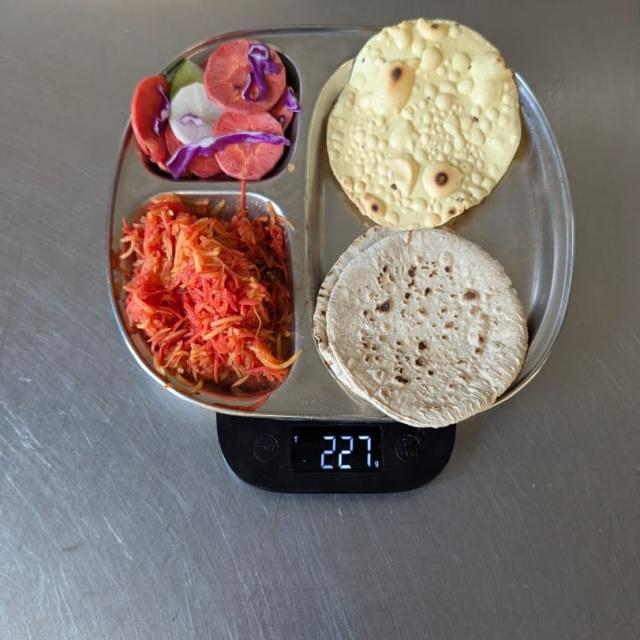Chapati: (317, 235, 526, 427)
Papad: (326, 18, 524, 233)
Salad: (119, 191, 302, 398), (125, 30, 308, 186)
